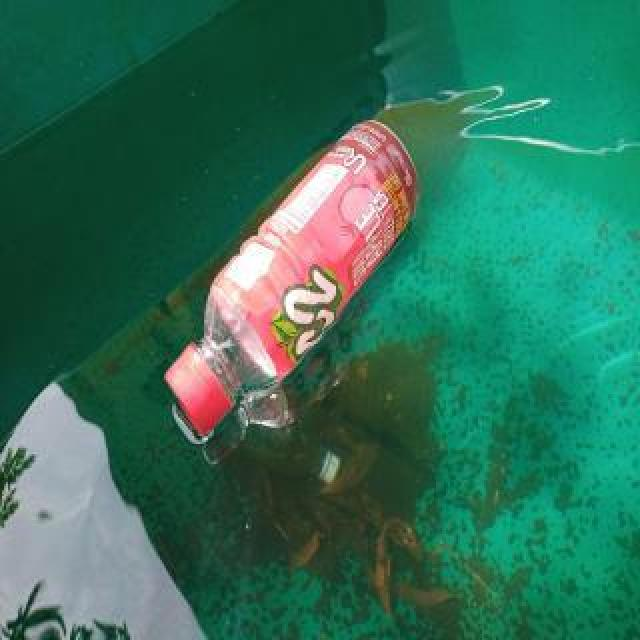bottle: (162, 115, 420, 441)
